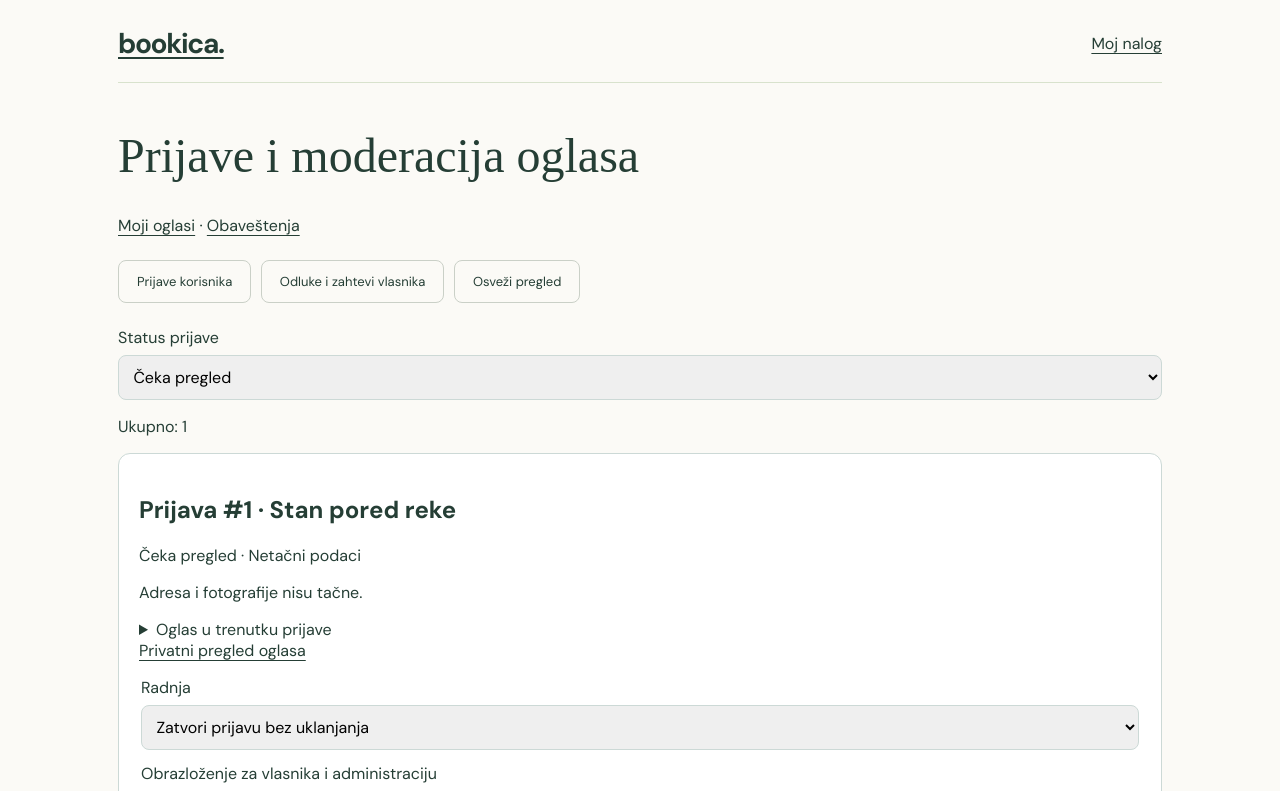
Test: requires an admin reason and blocks further decisions after a stale version
Expected: the heading "Prijava #1 · Stan pored reke" is shown, [139,494,456,525]
Select "Suspenduj oglas" in the dropdown labelled "Radnja" at coordinates (640, 727), box [141,704,1139,750]
(page scrolled)
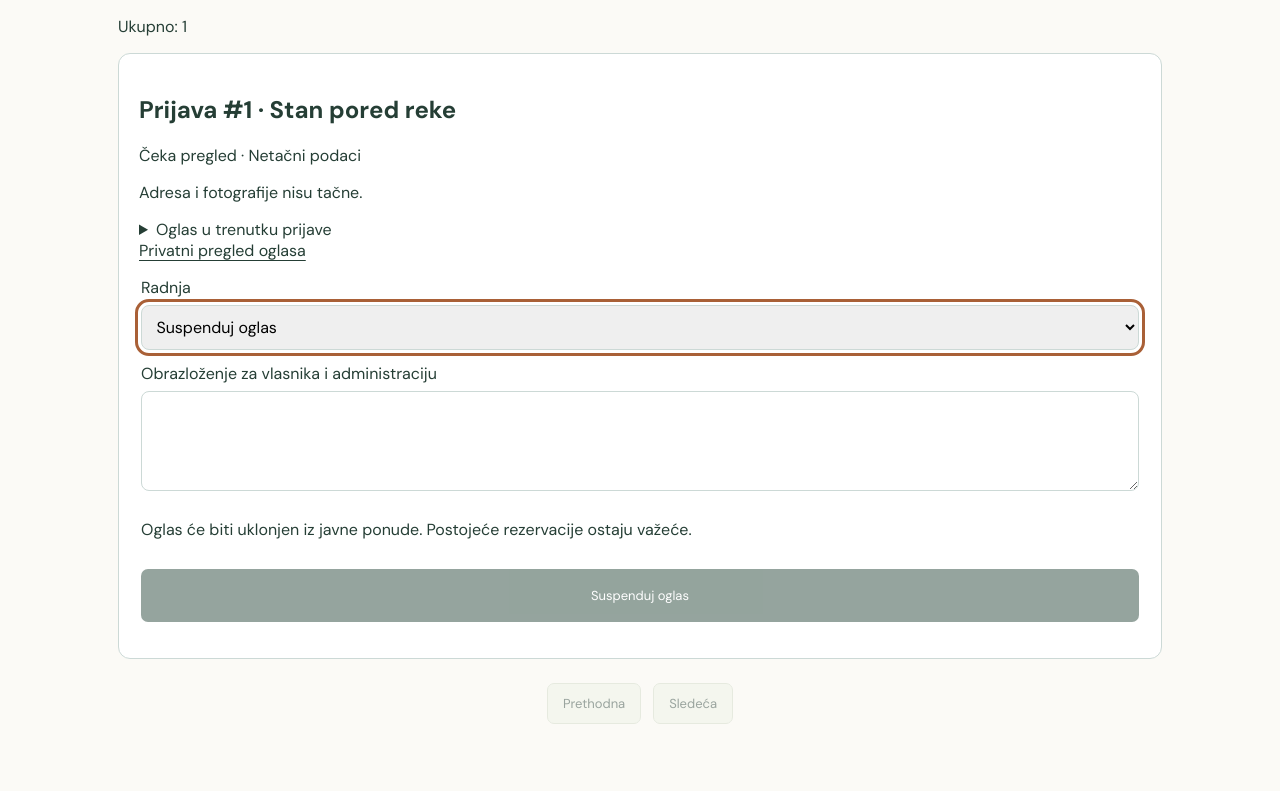
Expected: the button "Suspenduj oglas" is disabled, [141,569,1139,622]
Type "Ispravite podatke u opisu." into the text box labelled "Obrazloženje za vlasnika i administraciju" at coordinates (640, 440), box [141,390,1139,490]
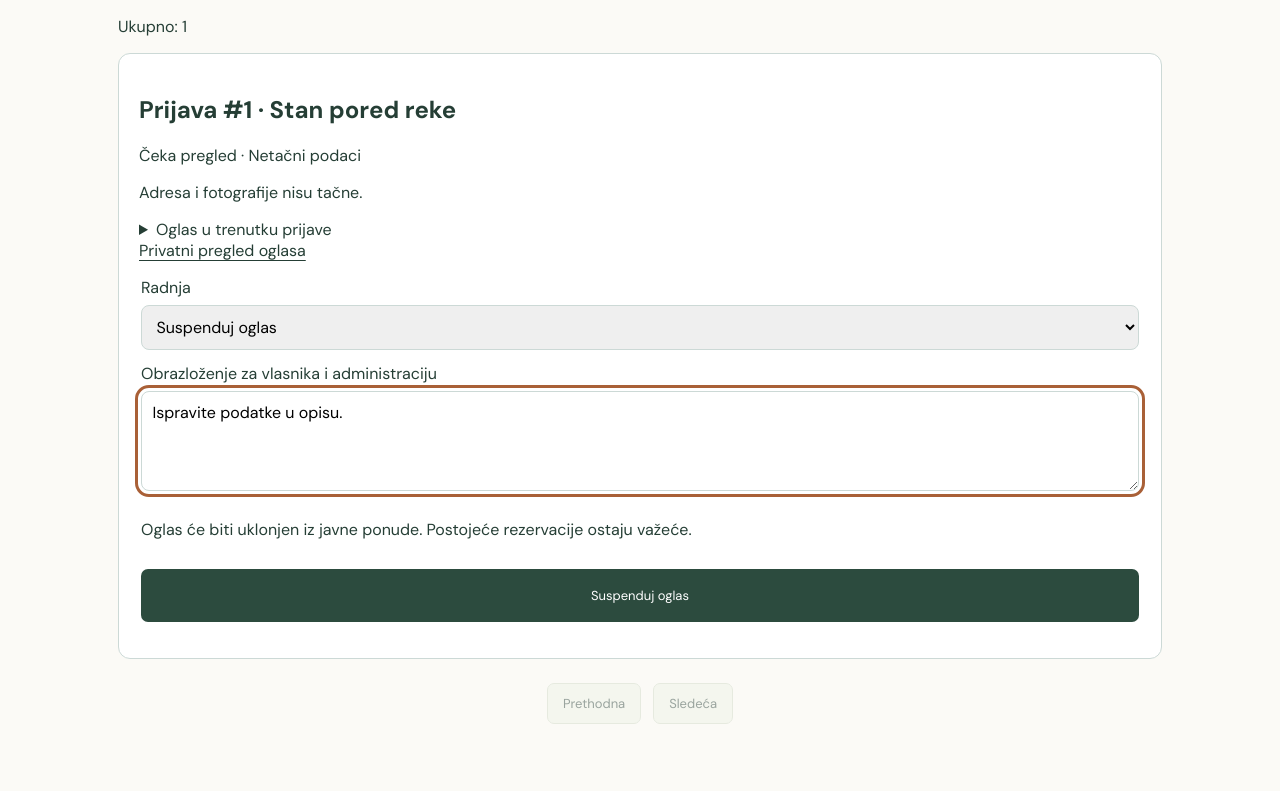
Click the button "Suspenduj oglas" at coordinates (640, 596), box [141,569,1139,622]
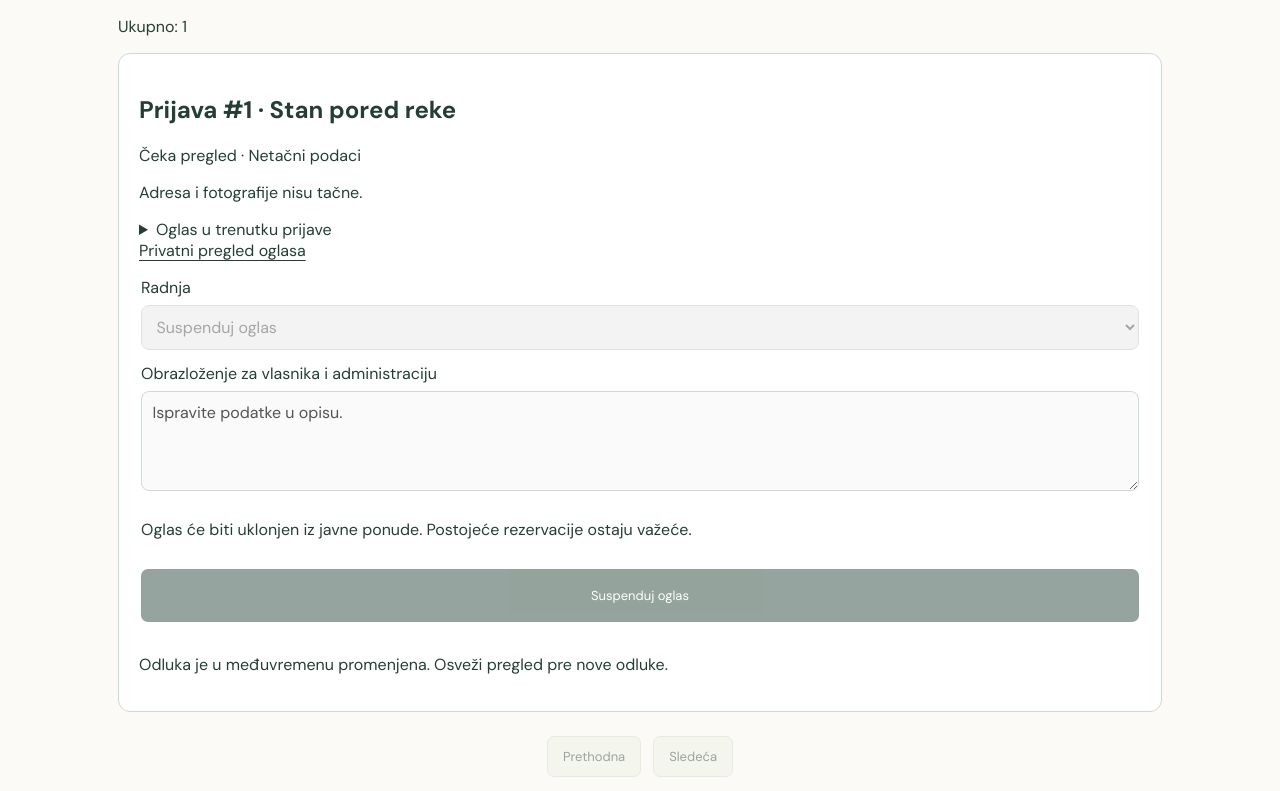
Now the button "Suspenduj oglas" is disabled, box [141,569,1139,622]
Now the message "Odluka je u međuvremenu promenjena. Osveži pregled pre nove odluke." is shown, box [139,654,668,675]
